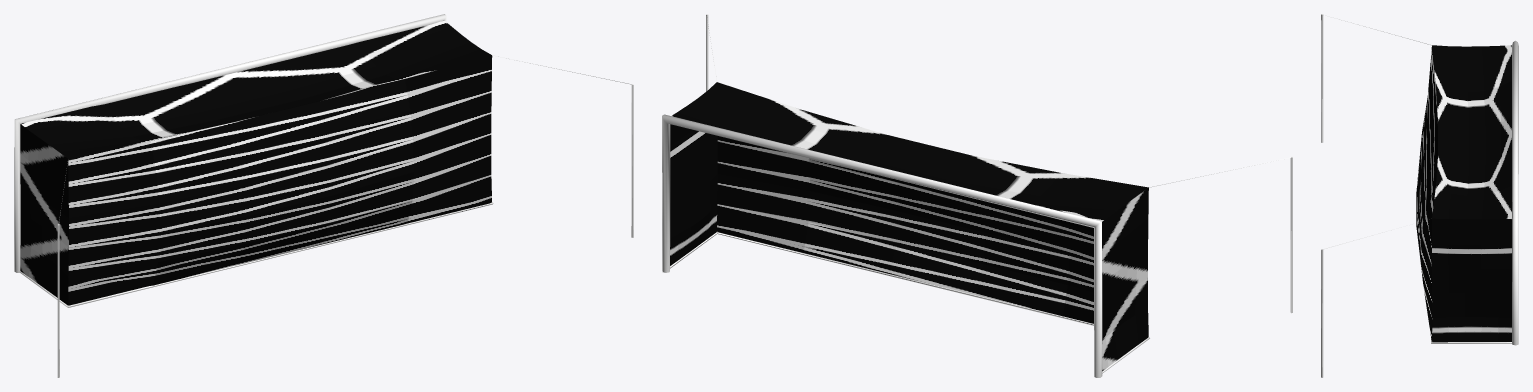
The model's file is soccerGoalPhysicsCloth.fbx.
3 renders of one model, left to right at view 1: azimuth 30°, elevation 25°; view 2: azimuth 150°, elevation 25°; view 3: azimuth 270°, elevation 25°, orthographic. The views are drawn at different scales.
Parts seen in each view (by area): view 1: NetCube, soccerGoal; view 2: NetCube, soccerGoal; view 3: NetCube, soccerGoal.
Part boxes in pixels (x1,y1,x2,y2): NetCube: (20,20,492,305); soccerGoal: (14,14,633,377); NetCube: (670,82,1148,371); soccerGoal: (662,14,1292,377); NetCube: (1416,45,1511,342); soccerGoal: (1321,14,1518,377).
Bounding box in the file's own units: 1011 × 262 × 358.
Materials: 5 (4 with a texture image).
